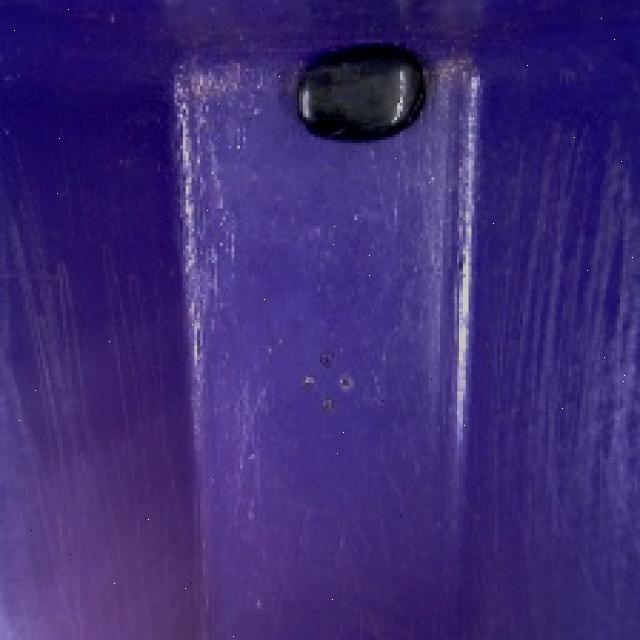cobbles: (287, 41, 438, 153)
